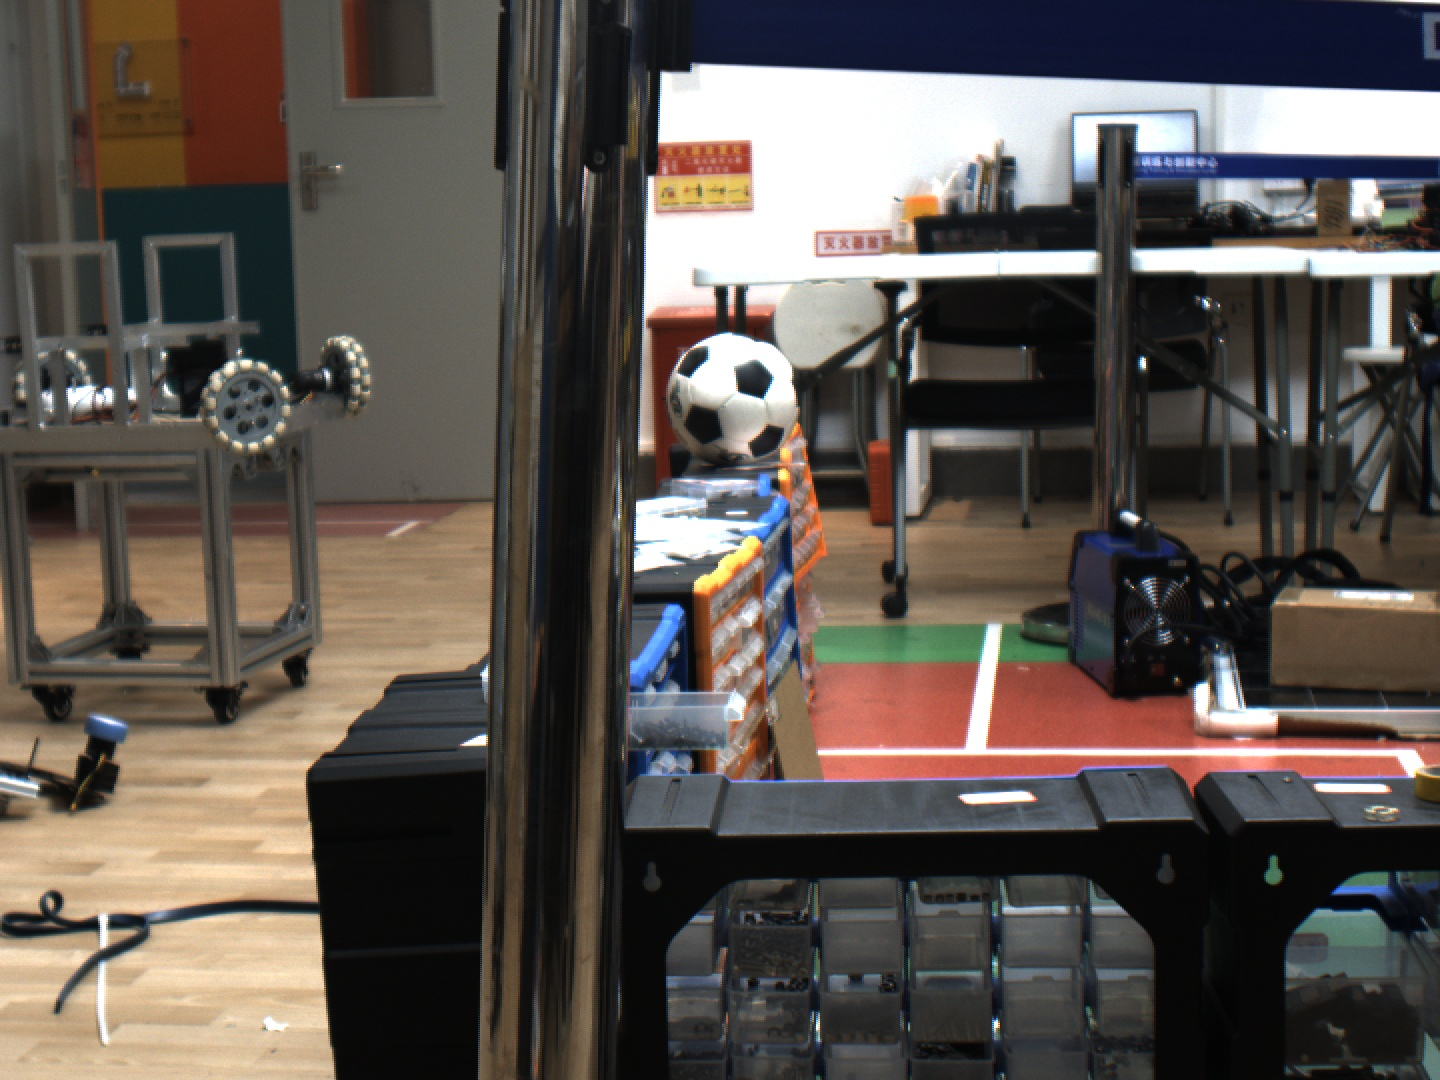ball: (647, 319, 822, 481)
